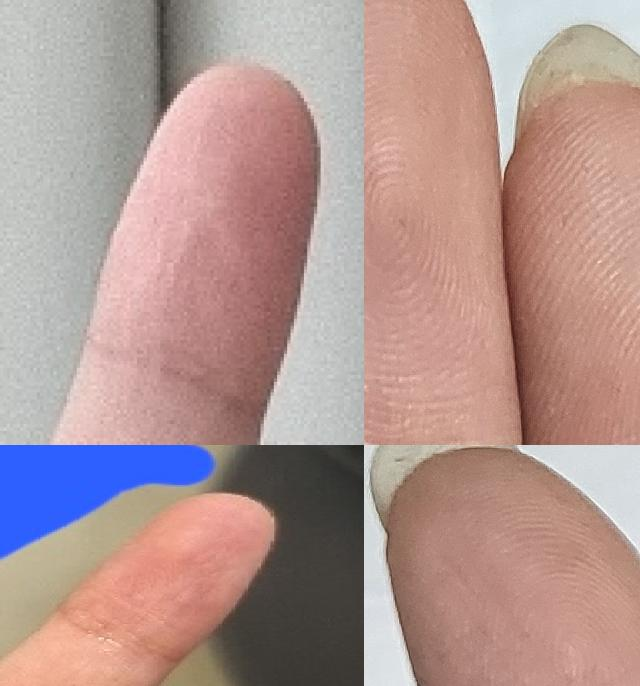Fingerprints: (88, 62, 320, 411), (364, 0, 521, 445), (386, 446, 640, 686), (68, 493, 274, 657)
